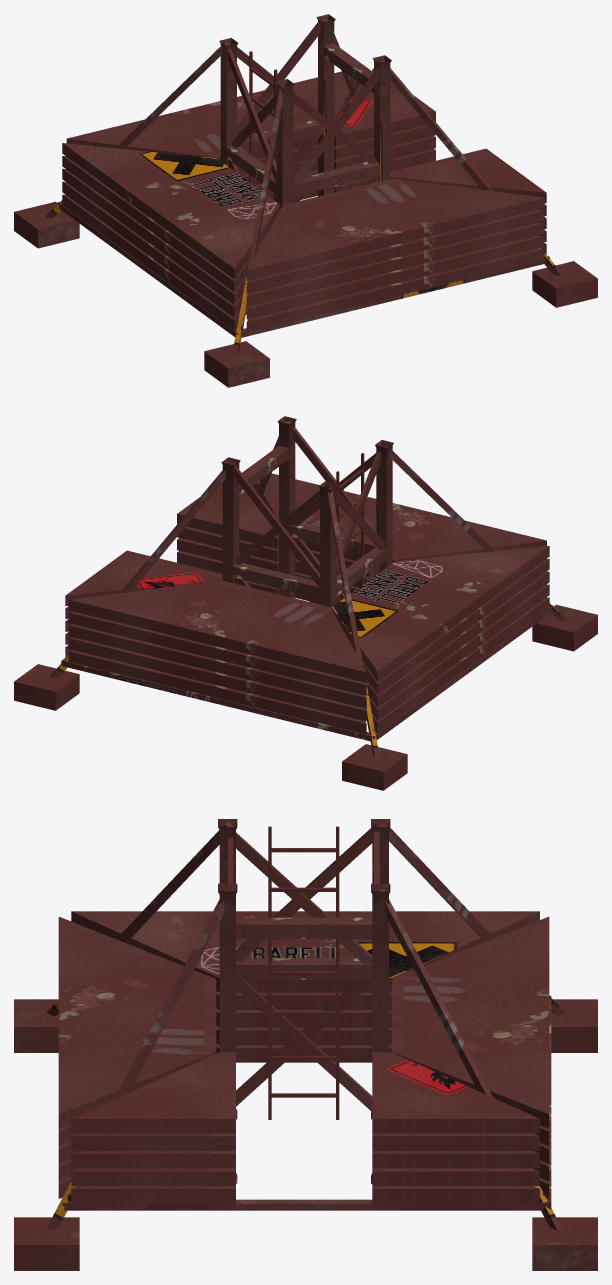
The model's file is CS_crane_00.FBX.
3 renders of one model, top to bottom at view 1: azimuth 30°, elevation 25°; view 2: azimuth 150°, elevation 25°; view 3: azimuth 270°, elevation 25°, orthographic. The views are drawn at different scales.
Parts seen in each view (by area): view 1: SM_crane_00; view 2: SM_crane_00; view 3: SM_crane_00.
Boxes of the visible parts, x1,y1,x2,y2 form: SM_crane_00: (14, 14, 597, 387); SM_crane_00: (14, 416, 597, 790); SM_crane_00: (14, 819, 597, 1270).
Bounding box in the file's own units: 532 × 535 × 295.
